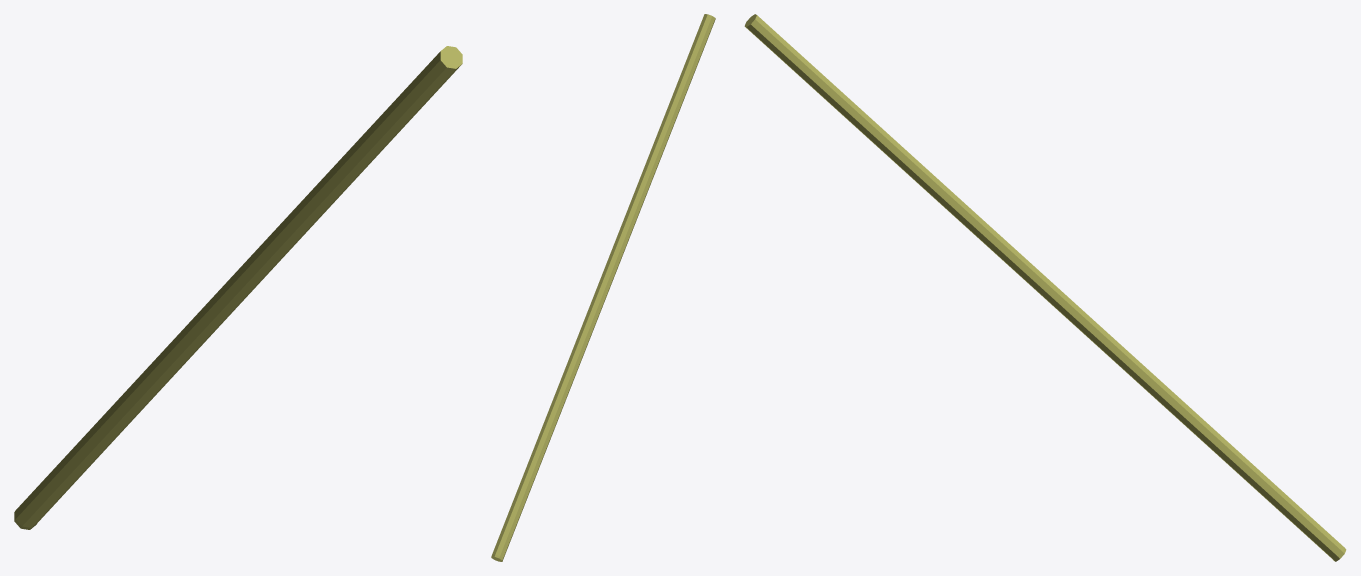
The model's file is string5.fbx.
3 renders of one model, left to right at view 1: azimuth 30°, elevation 25°; view 2: azimuth 150°, elevation 25°; view 3: azimuth 270°, elevation 25°, orthographic. The views are drawn at different scales.
Parts seen in each view (by area): view 1: string1_3; view 2: string1_3; view 3: string1_3.
Boxes of the visible parts, x1,y1,x2,y2 form: string1_3: (14,46,462,529); string1_3: (491,14,715,561); string1_3: (744,14,1346,561).
Bounding box in the file's own units: 10 × 339 × 339.
